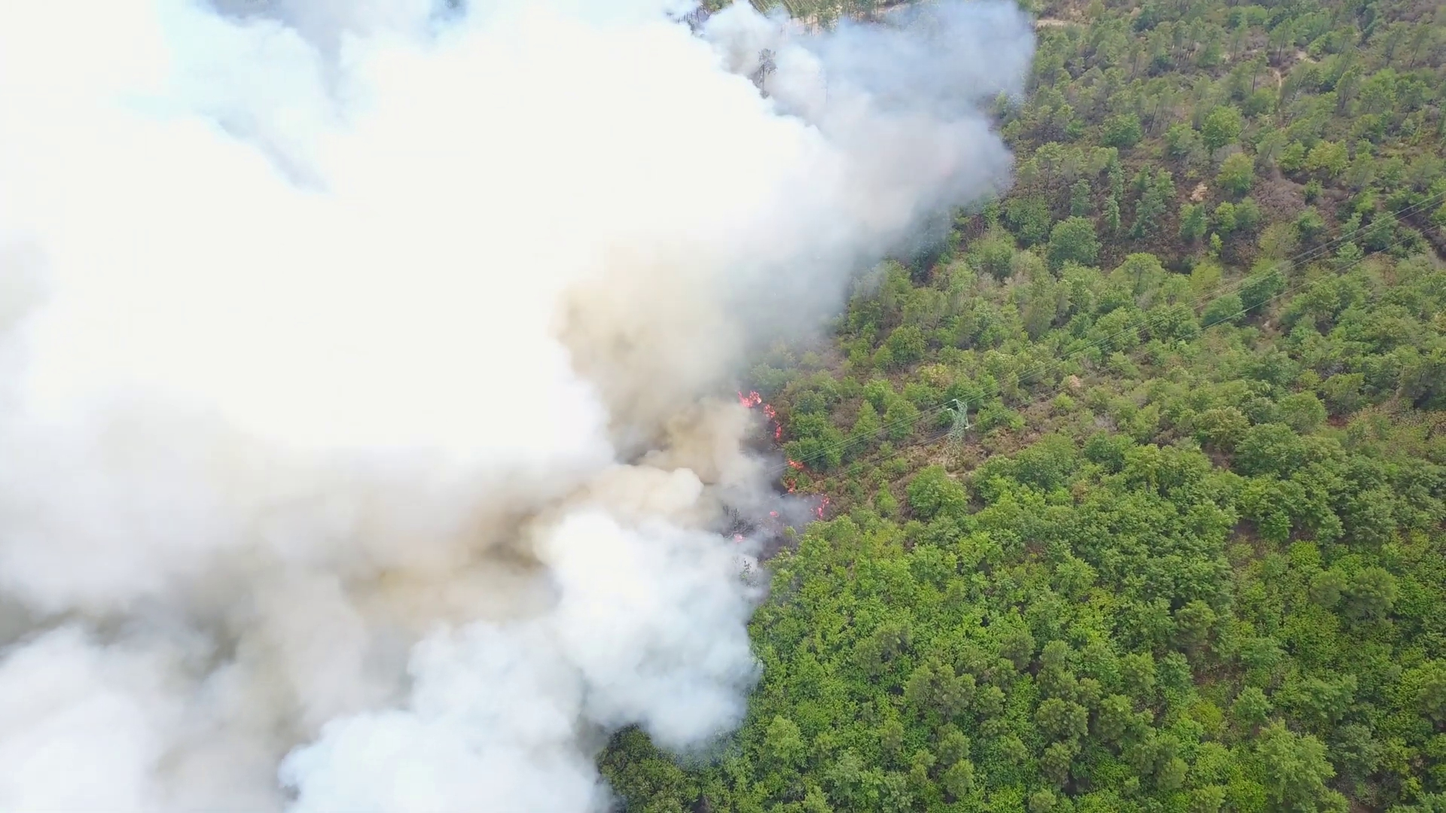forest_fire: (738, 391, 782, 440), (785, 453, 805, 469)
